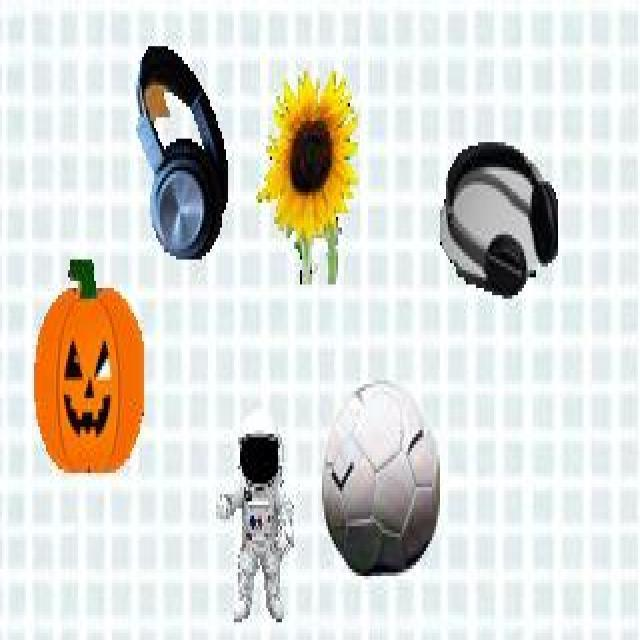Other Objects: (136, 42, 230, 260), (440, 138, 560, 299), (217, 408, 296, 626)
